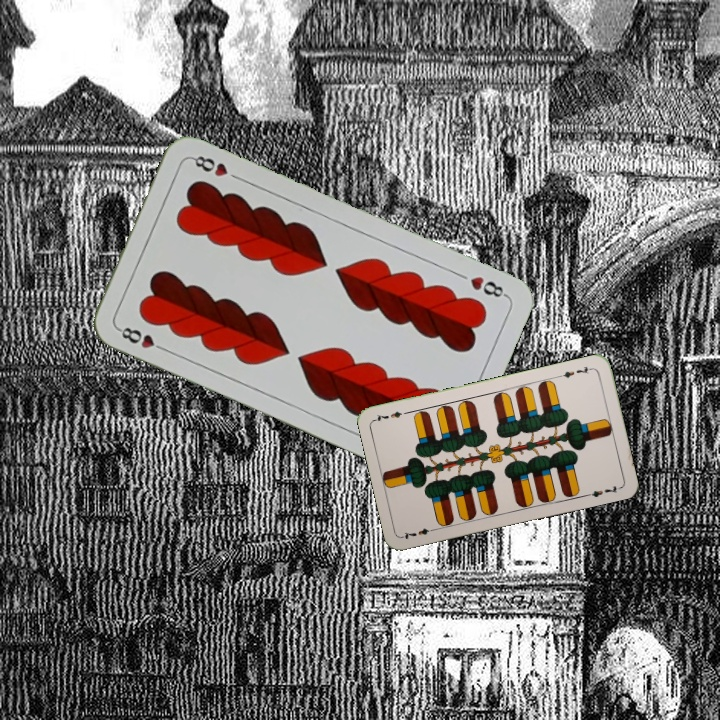E7: (555, 362, 595, 381), (399, 524, 439, 542)
H8: (114, 322, 170, 354), (466, 272, 510, 300)
